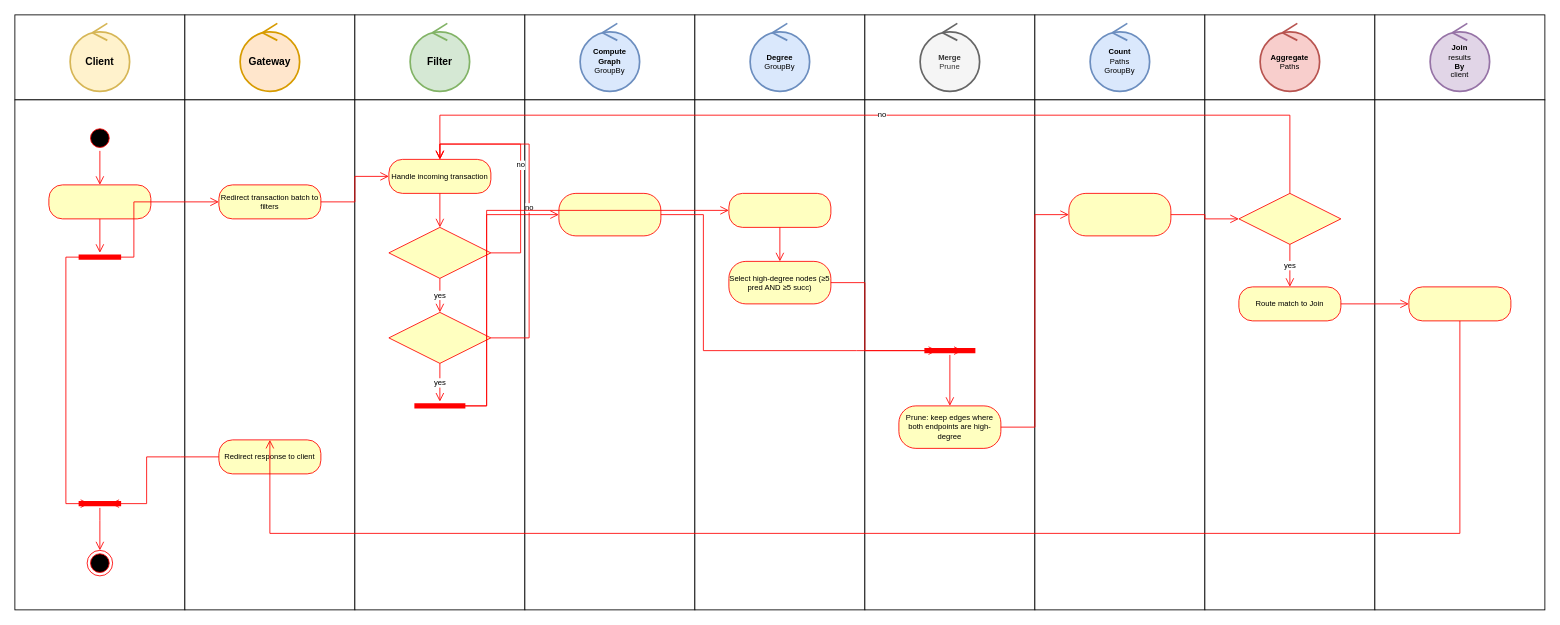
This 1560x625 diagram has some shape labels left out. The centre of each missing label's shape, as x and y in pixels:
"Build graph view (node → predecessors, successors)" belongs at pixel 609 214.
"Compute degree per node" belongs at pixel 779 210.
"Count intermediaries per (origin, dest) pair" belongs at pixel 1119 214.
"count ≥ 5?" belongs at pixel 1289 218.
"Currency == USD?" belongs at pixel 439 252.
"Date in period A?" belongs at pixel 439 337.
"Read transactions from file" belongs at pixel 99 201.
"Route by client" belongs at pixel 1459 303.
